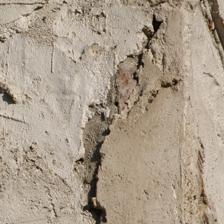Crack: (40, 10, 125, 214)
